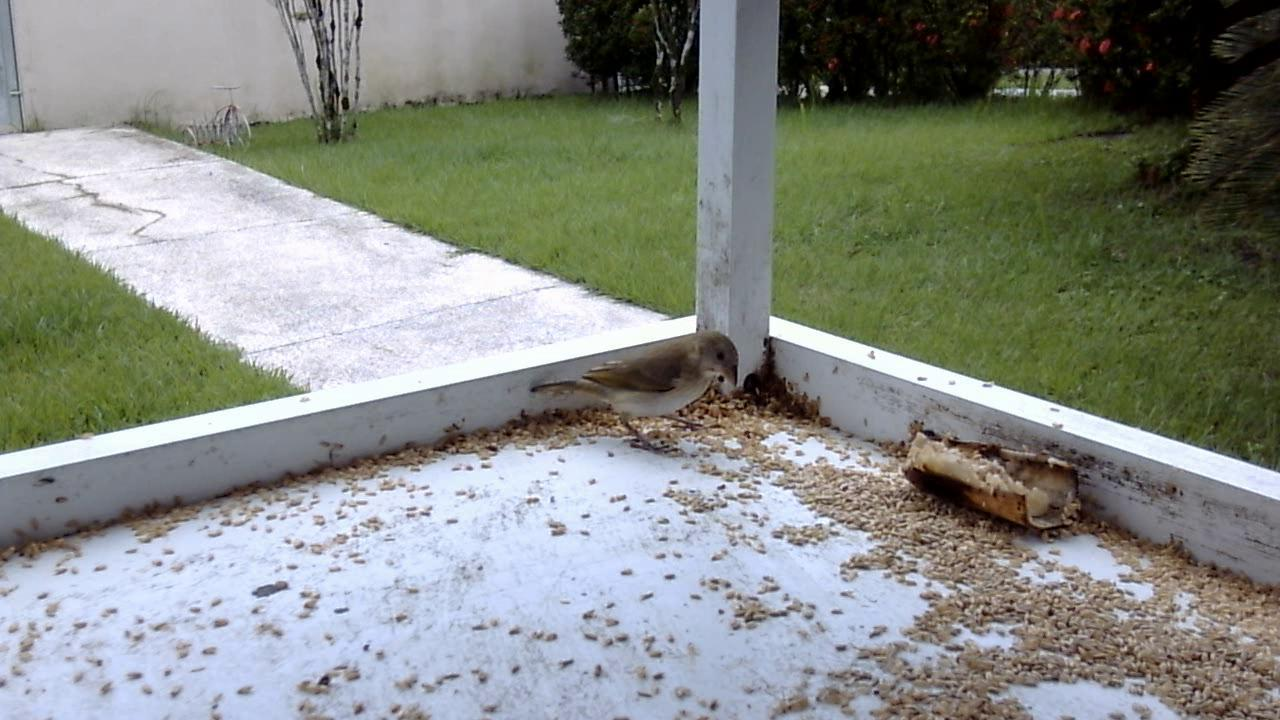canario_do_amazonas: (523, 327, 740, 455)
